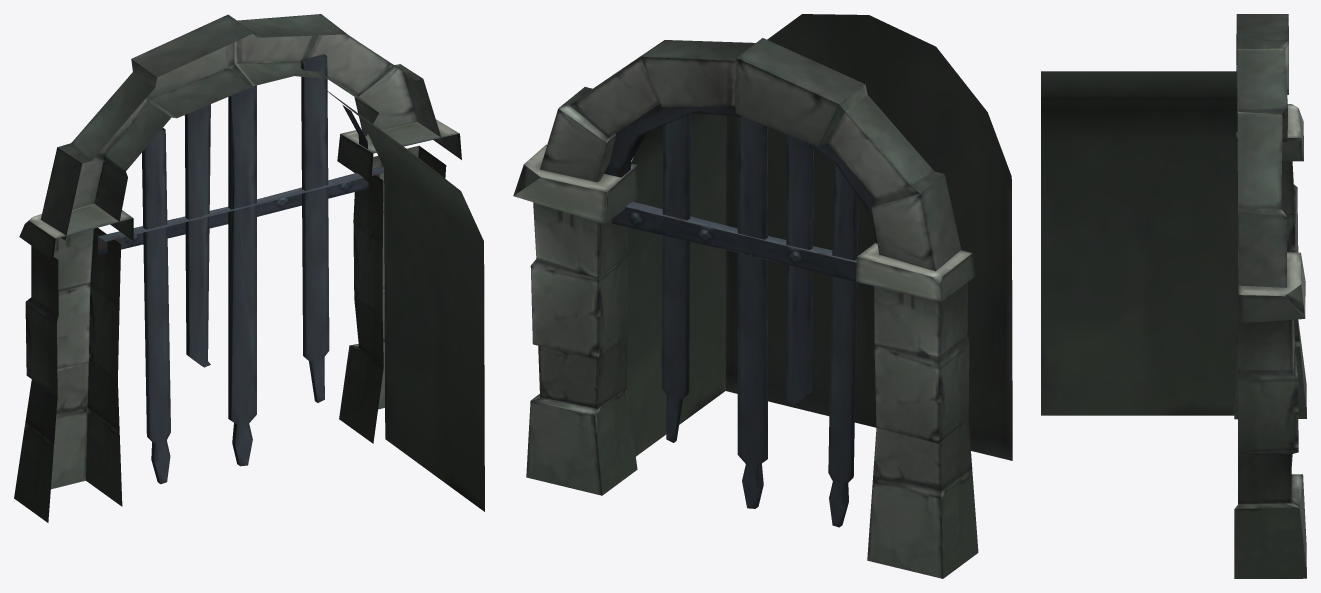
The model's file is chengmen02.FBX.
3 views of the same model, side by side, from view 1: azimuth 30°, elevation 25°; view 2: azimuth 150°, elevation 25°; view 3: azimuth 270°, elevation 25° (orthographic). The views are drawn at different scales.
Size of the model in its own units: 447 by 454 by 247.
